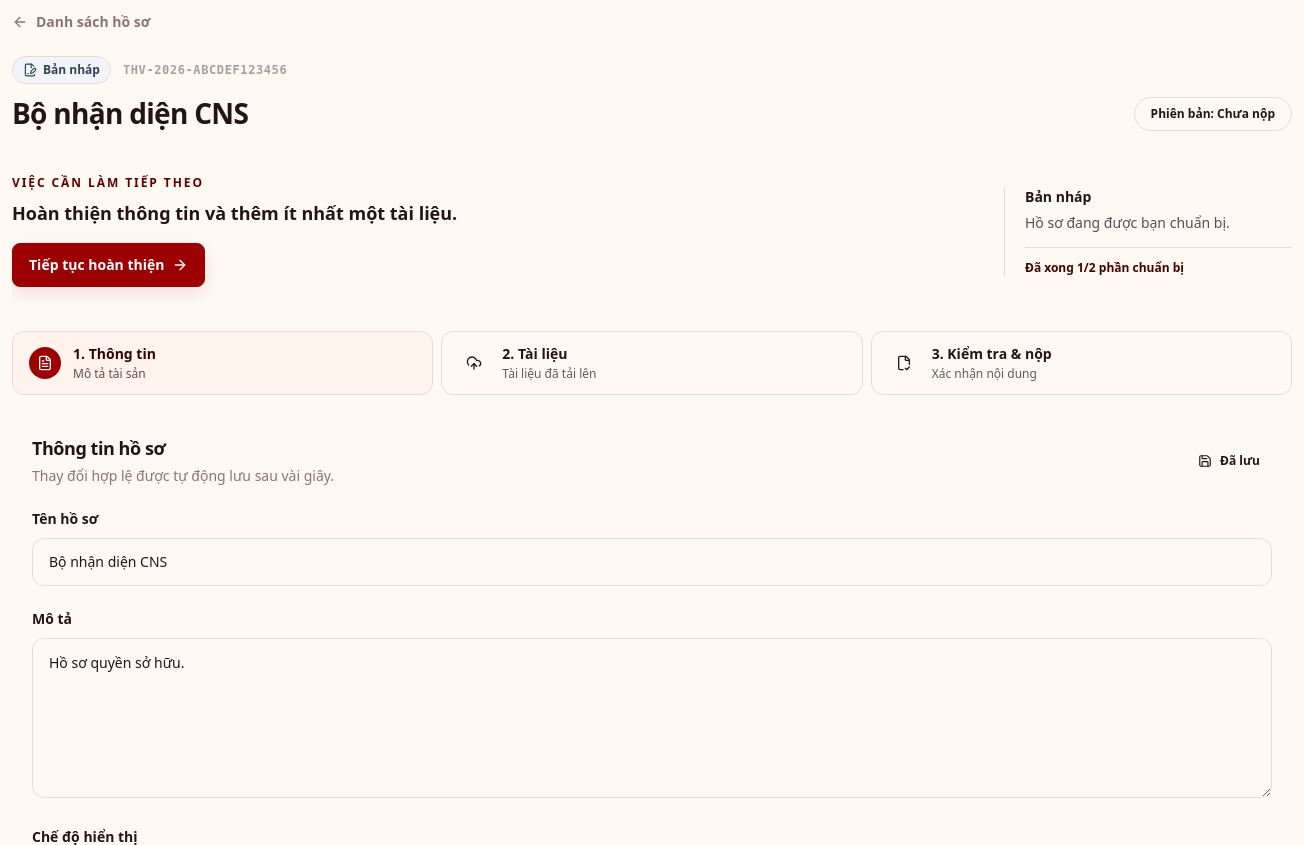
Scenario: DossierWorkspace › uses server document rules to block submission until required evidence exists
Expected: the heading "Bộ nhận diện CNS" is shown, [12, 96, 287, 131]
Click the button "3. Kiểm tra & nộp Xác nhận nội dung" at (999, 354), box [871, 331, 1292, 395]
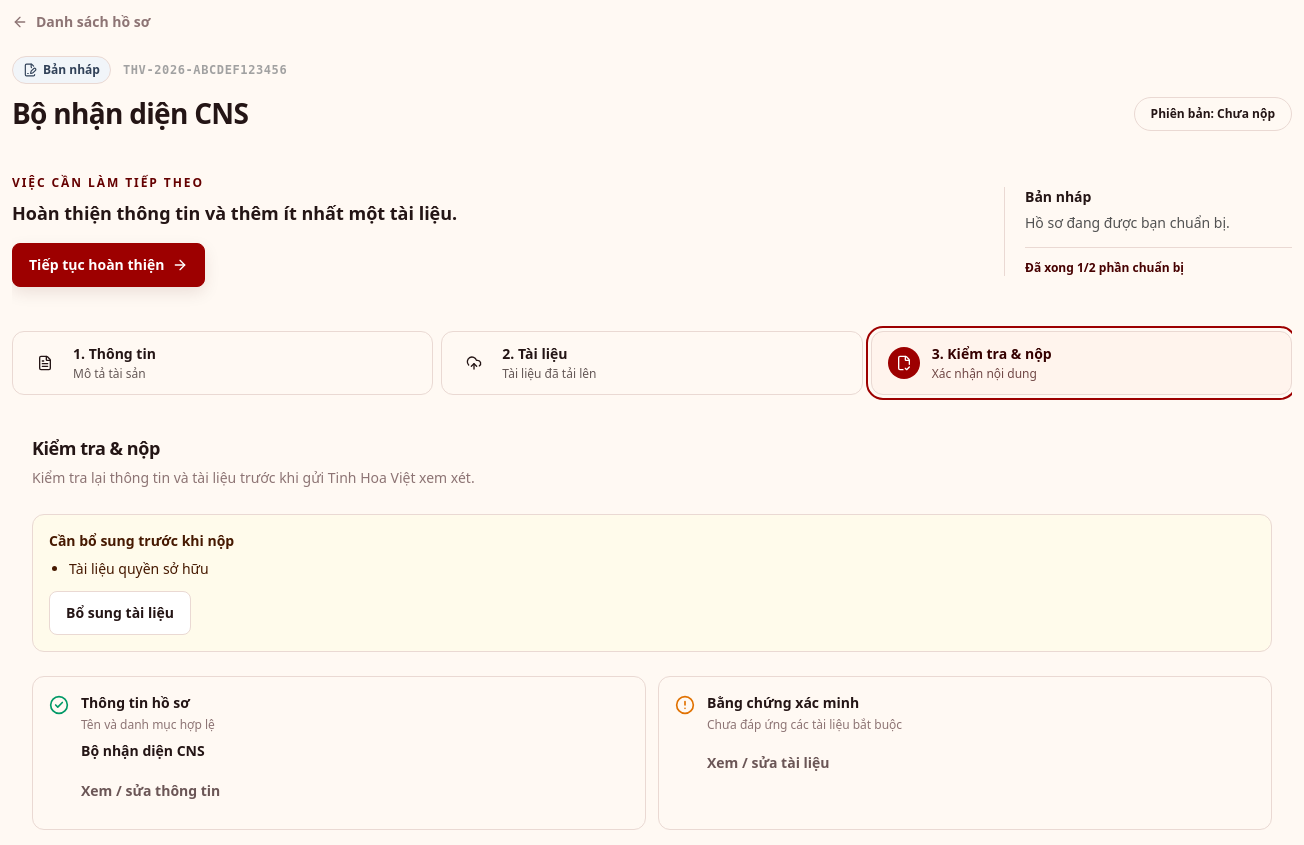
Expected: the text "Cần bổ sung trước khi nộp" is shown, [49, 531, 234, 550]
Expected: the text "Chưa đáp ứng các tài liệu bắt buộc" is shown, [707, 717, 902, 733]
Click the button "Bổ sung tài liệu" at (120, 613), box [49, 591, 191, 635]
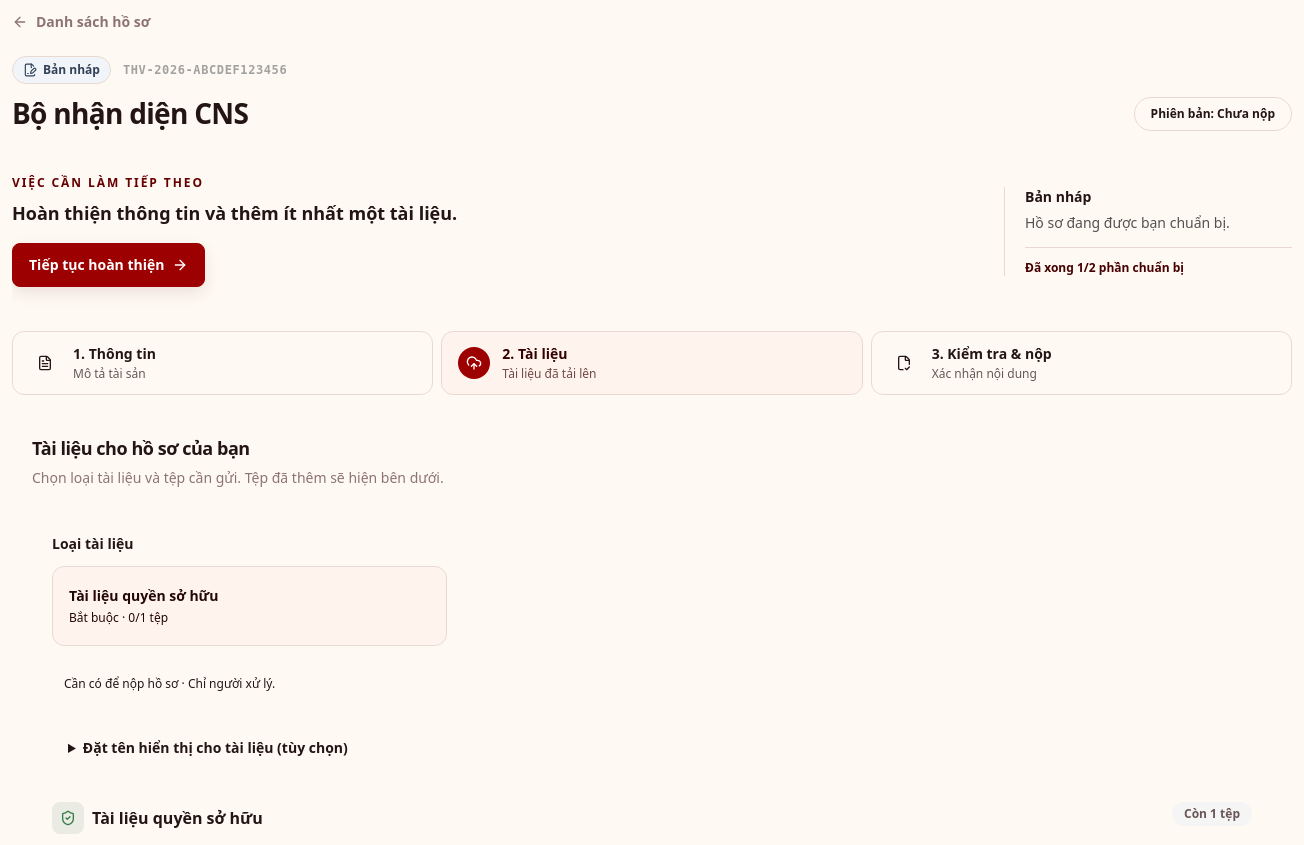
Expected: the text "Chọn loại tài liệu và tệp cần gửi" is shown, [32, 468, 444, 487]
Click the button "3. Kiểm tra & nộp Xác nhận nội dung" at (999, 354), box [871, 331, 1292, 395]
(page scrolled)
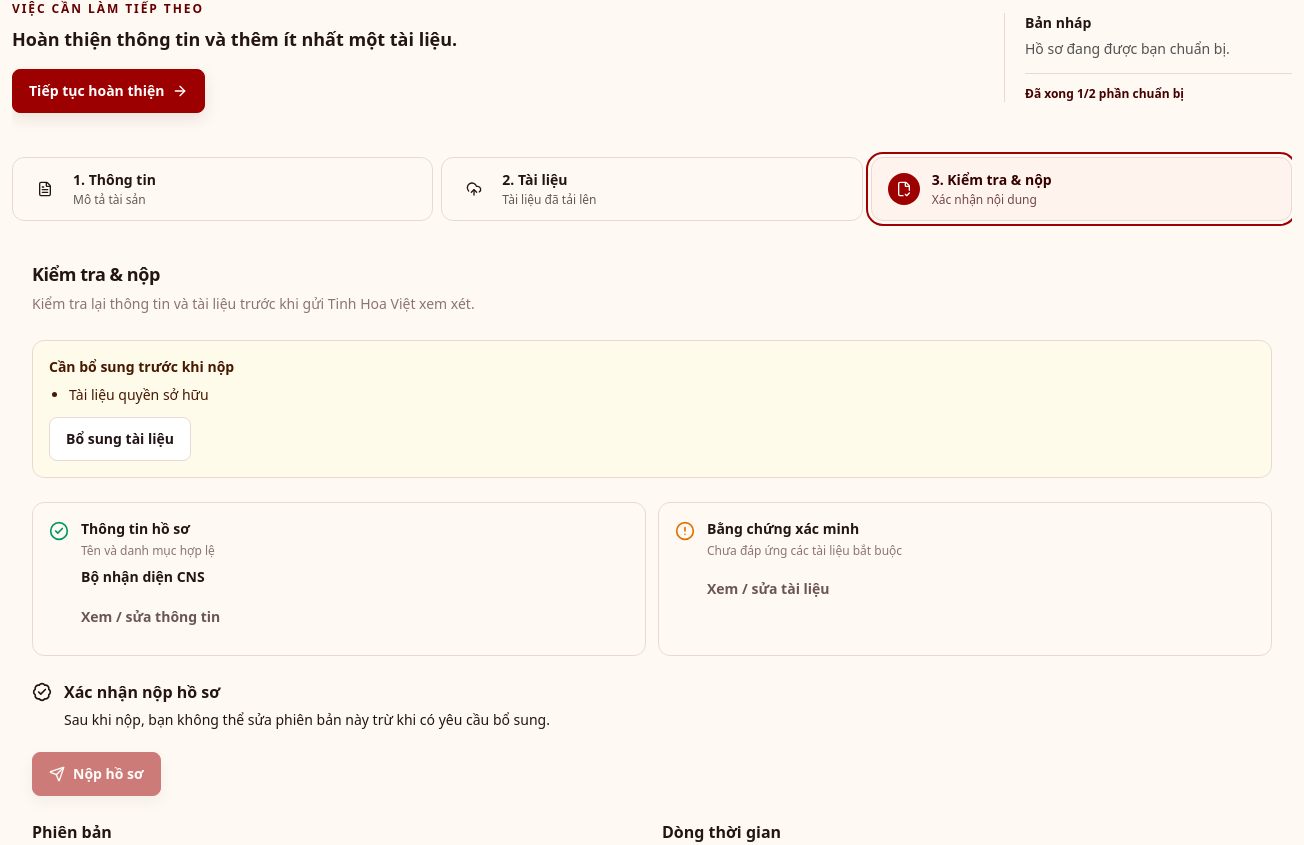
Expected: the list item "Tài liệu quyền sở hữu" is shown, [69, 385, 209, 404]
Expected: the button "Nộp hồ sơ" is disabled, [32, 752, 160, 796]
